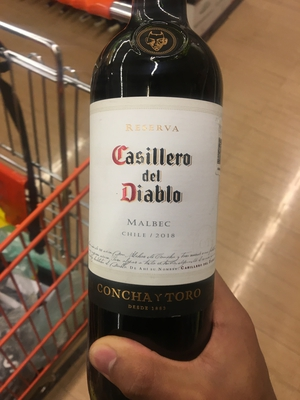casillero del diablo malbec: (80, 29, 232, 378)
